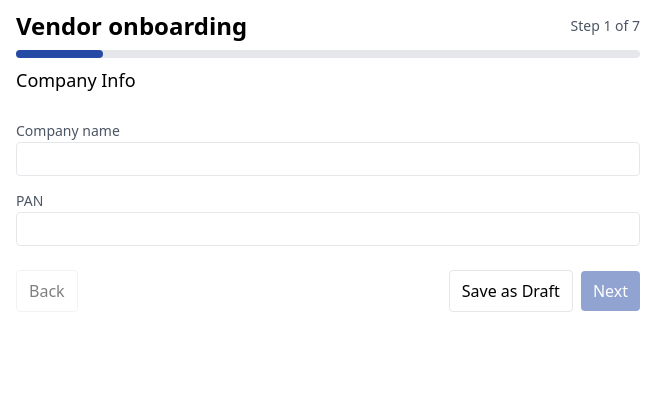
Test case: SubmissionFormComponent › clicking Next on a valid step issues PUT /api/submissions/:id with the patch
The width and height of the screenshot is (657, 399).
Type "Acme" into the field with test id "companyName-input" at (328, 159), box [16, 142, 640, 176]
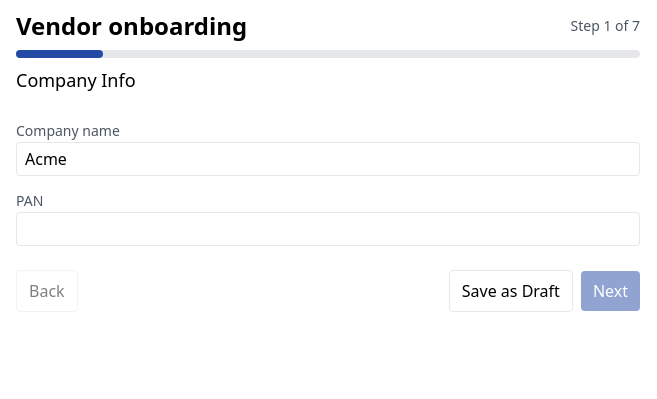
Type "ABCDE1234F" into the field with test id "panNumber-input" at (328, 229), box [16, 212, 640, 246]
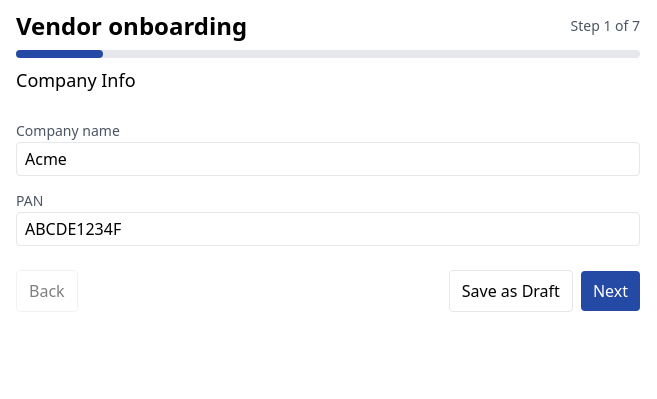
Click the button with test id "next-btn" at (610, 291), box [581, 271, 640, 311]
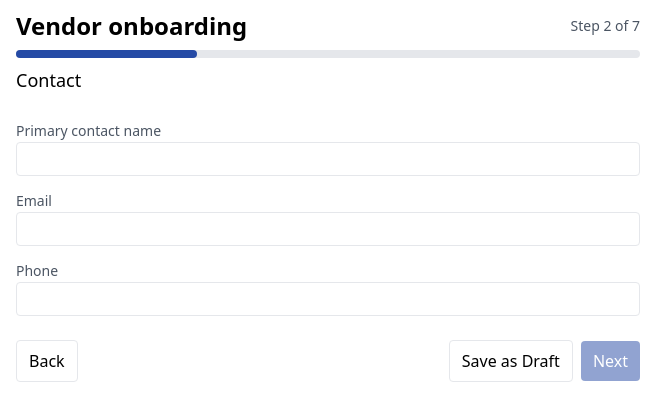
Check: the text "Step 2 of 7" is shown, box [570, 16, 640, 36]
